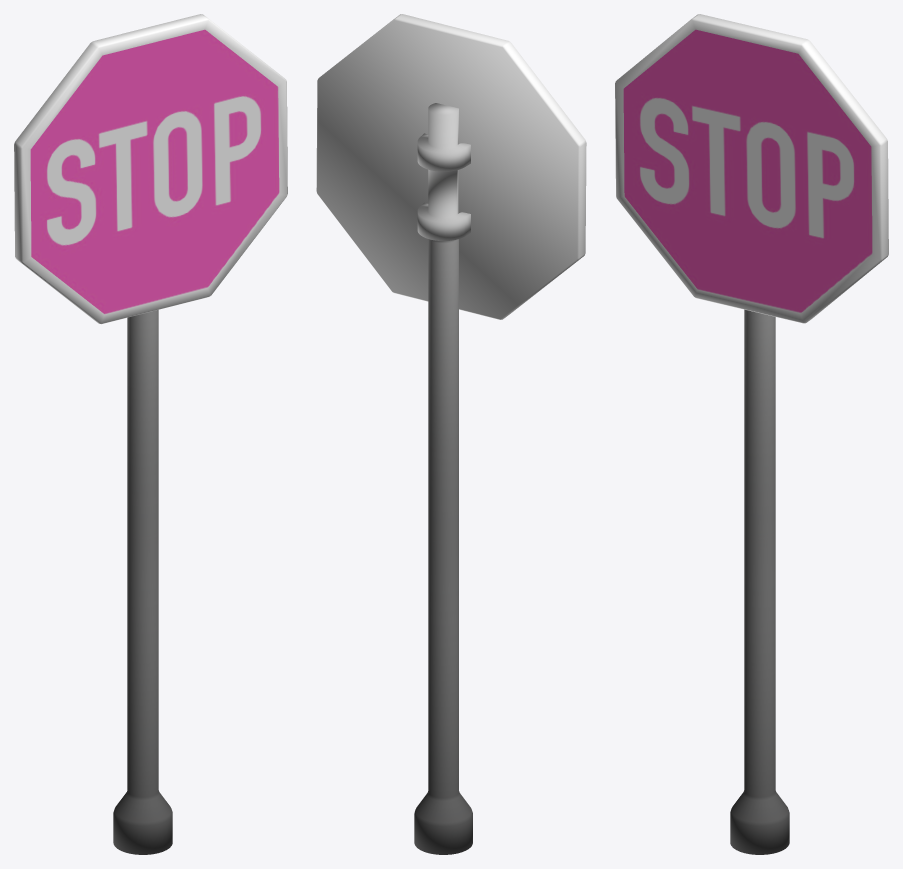
Rendered from stopschild.glb.
The picture shows the model from 3 angles, left to right: view 1: azimuth 30°, elevation 25°; view 2: azimuth 150°, elevation 25°; view 3: azimuth 330°, elevation 25°; orthographic projection.
Visible parts, largest first — view 1: Circle.001; view 2: Circle.001; view 3: Circle.001.
Boxes of the visible parts, x1,y1,x2,y2 form: Circle.001: (14, 14, 287, 854); Circle.001: (316, 14, 586, 854); Circle.001: (615, 14, 888, 854).
Size of the model in its own units: 0.4566 by 1.34 by 0.088.
2 materials, 2 textured.
